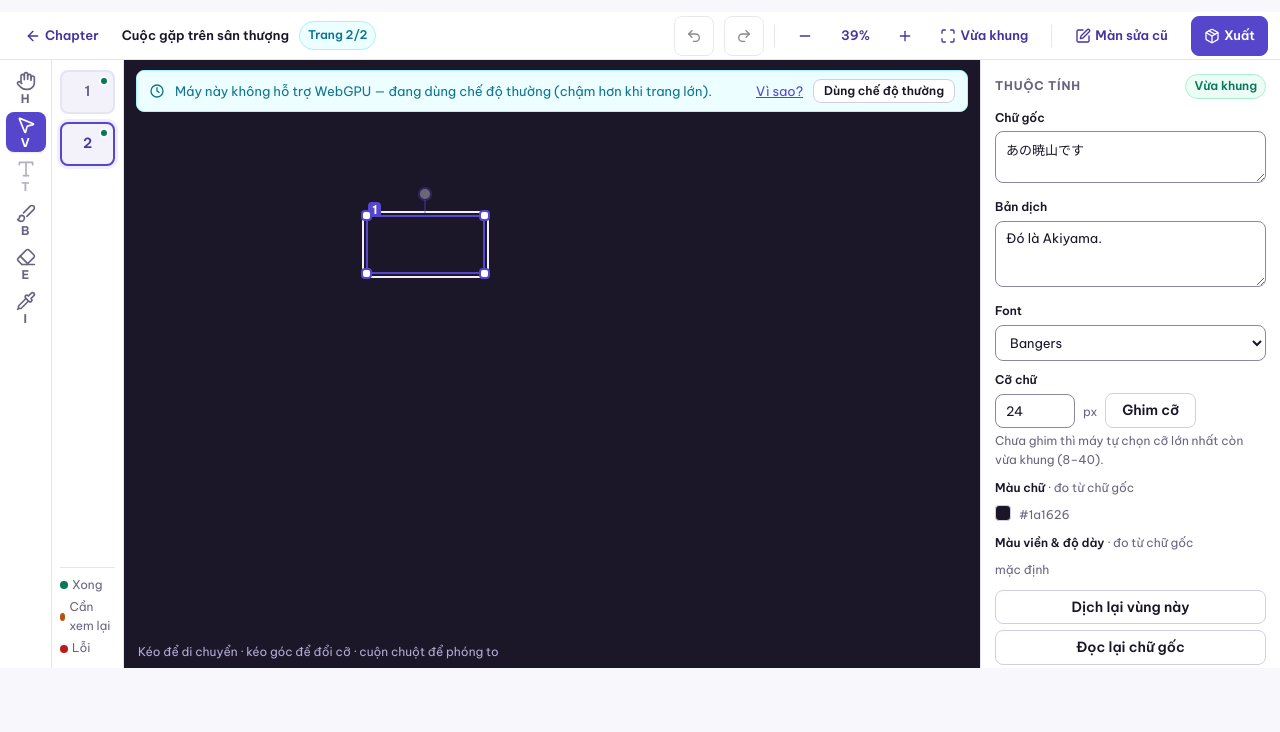
cọ xoá chữ › lỗi 422 hiện đúng detail của máy chủ và GIỮ mặt nạ để sửa
Expected: the button named "Về 100%" is shown, [828, 16, 884, 56]
Expected: the button named "Phóng to" is enabled, [886, 16, 926, 56]
Click the button named "Cọ xoá chữ, phím B": coordinates (26, 220) [6, 200, 46, 240]
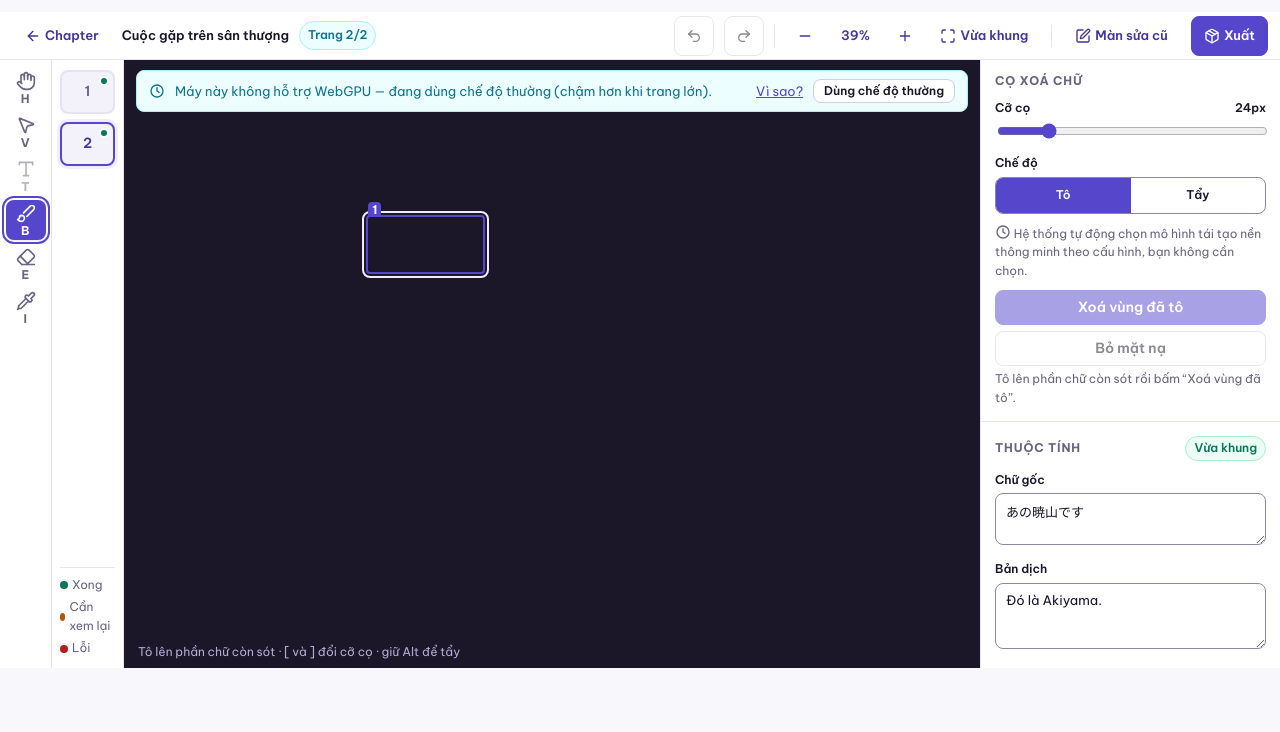
Press the mouse on the element with test id "cv-stage": coordinates (552, 375) [124, 112, 980, 637]
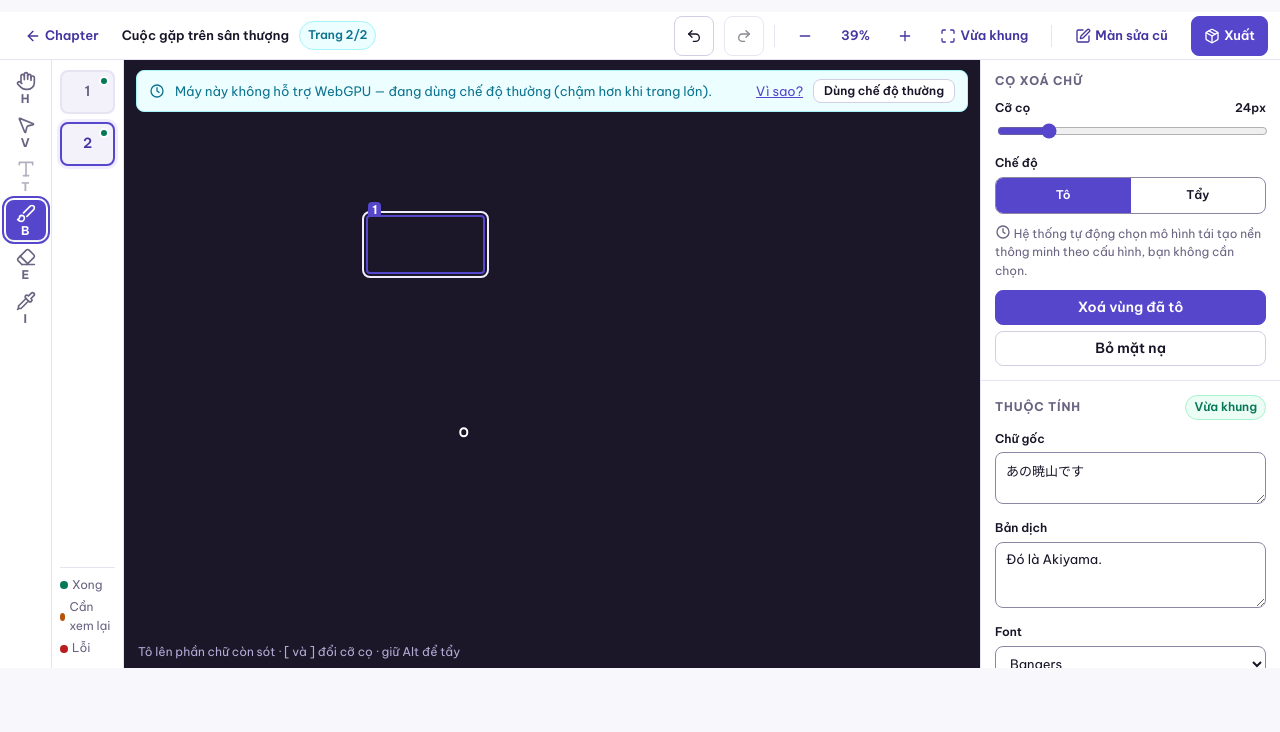
Expected: the button "Xoá vùng đã tô" is enabled
Click the button "Xoá vùng đã tô": coordinates (1130, 308) [995, 290, 1266, 325]
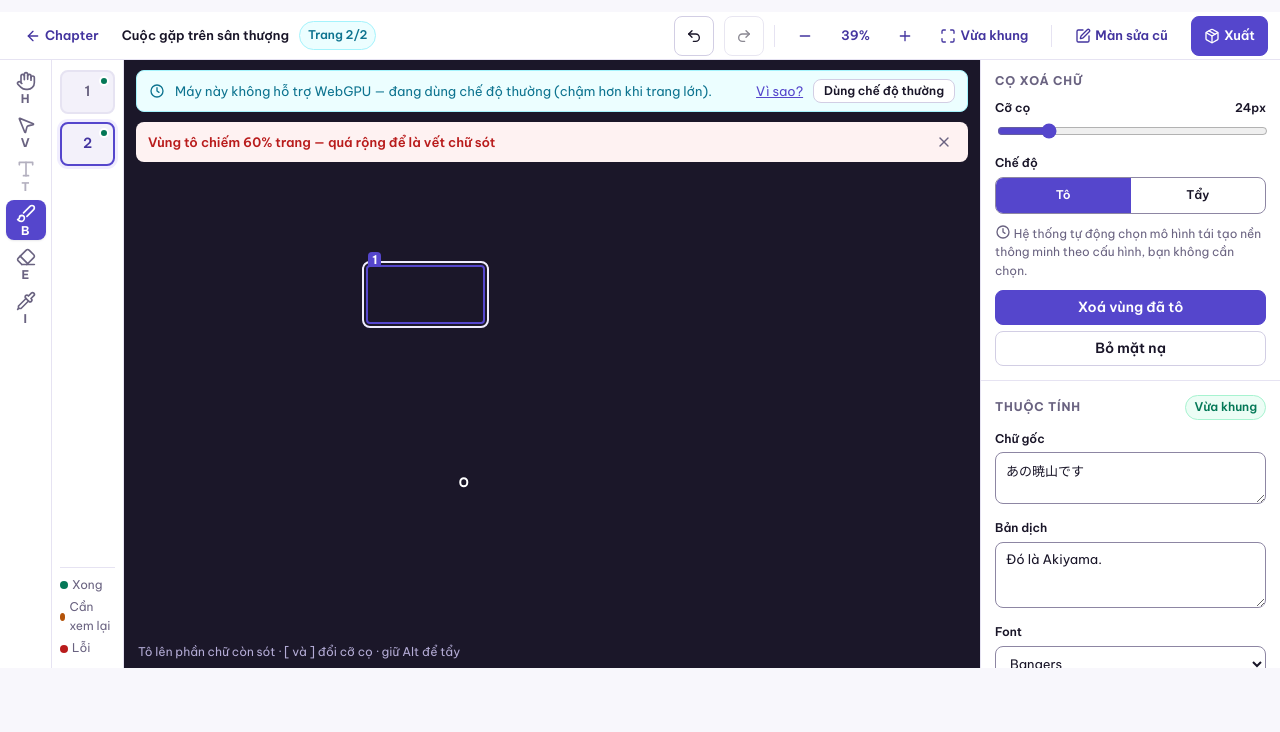
Expected: the button "Xoá vùng đã tô" is enabled, [995, 290, 1266, 325]
Expected: the message "Vùng tô chiếm 60% trang — quá rộng để là vết chữ sót" is shown, [136, 122, 968, 162]
